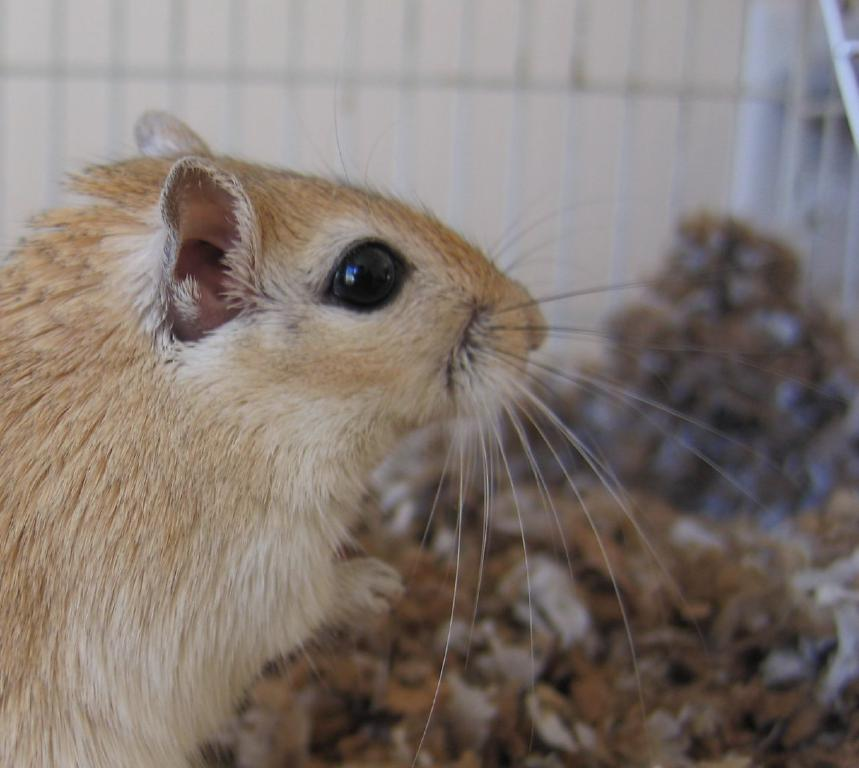mouse: (0, 112, 546, 767)
